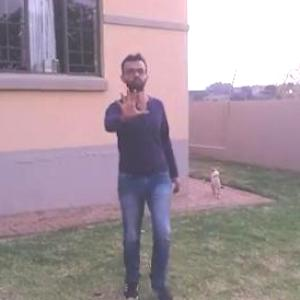follow_hand: (112, 80, 151, 124)
